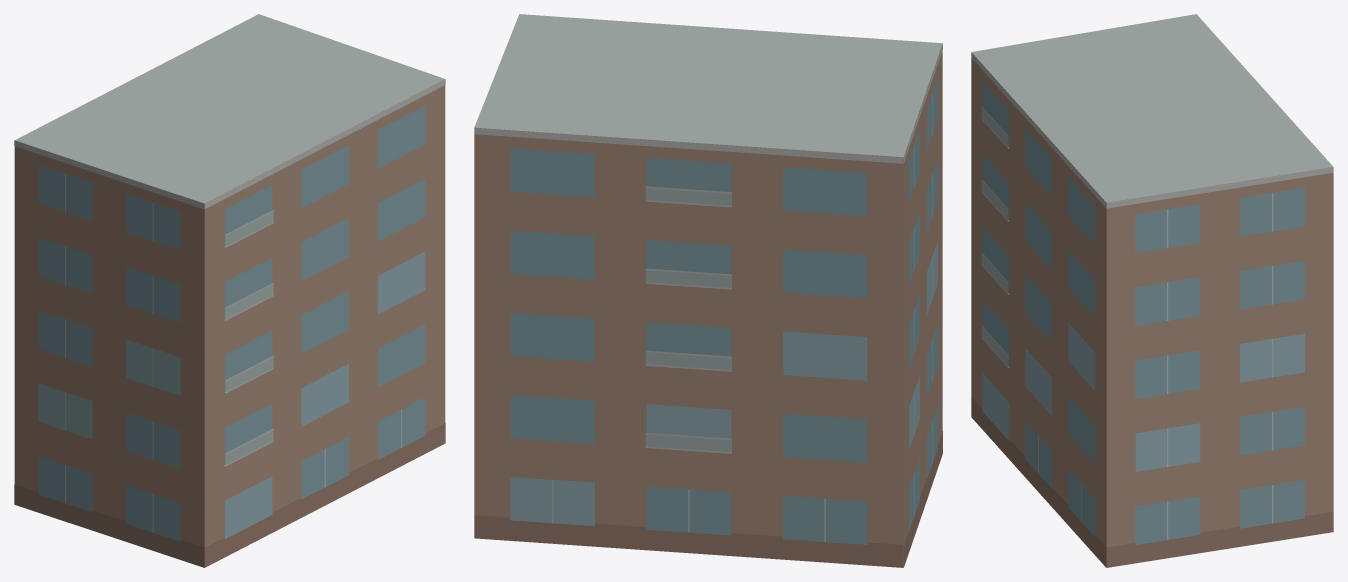
File: survey-upis-32549039.glb
3 views of the same model, side by side, from view 1: azimuth 30°, elevation 25°; view 2: azimuth 150°, elevation 25°; view 3: azimuth 270°, elevation 25° (orthographic). The views are drawn at different scales.
Visible parts, largest first — view 1: survey-upis-32549039.tmp; view 2: survey-upis-32549039.tmp; view 3: survey-upis-32549039.tmp.
Part boxes in pixels (x1,y1,x2,y2): survey-upis-32549039.tmp: (14,14,445,567); survey-upis-32549039.tmp: (474,14,942,567); survey-upis-32549039.tmp: (971,14,1333,567).
Size of the model in its own units: 16.92 by 15.25 by 13.72.
